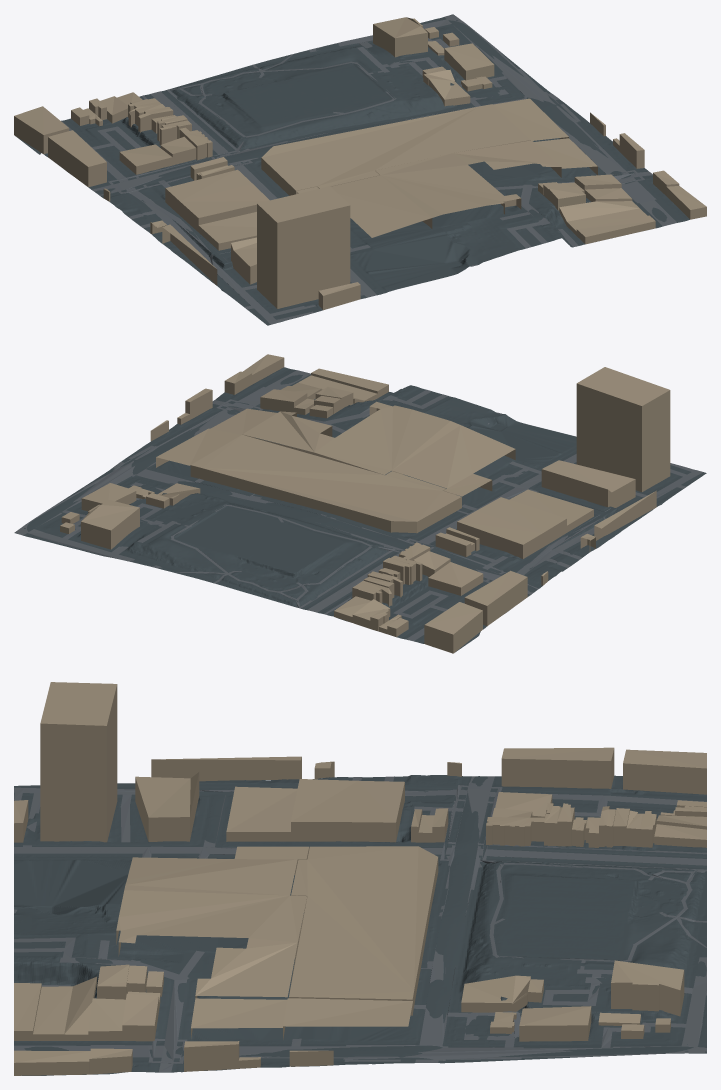
Rendered from epsg26910-1437-10885.lod0.glb.
3 renders of one model, top to bottom at view 1: azimuth 30°, elevation 25°; view 2: azimuth 150°, elevation 25°; view 3: azimuth 270°, elevation 25°, orthographic. The views are drawn at different scales.
Visible parts, largest first — view 1: epsg26910-1437-10885-lod0; view 2: epsg26910-1437-10885-lod0; view 3: epsg26910-1437-10885-lod0.
Part boxes in pixels (x1,y1,x2,y2): epsg26910-1437-10885-lod0: (14, 14, 706, 325); epsg26910-1437-10885-lod0: (14, 354, 706, 653); epsg26910-1437-10885-lod0: (14, 682, 706, 1075).
Bounding box in the file's own units: 384 × 76.01 × 384.
